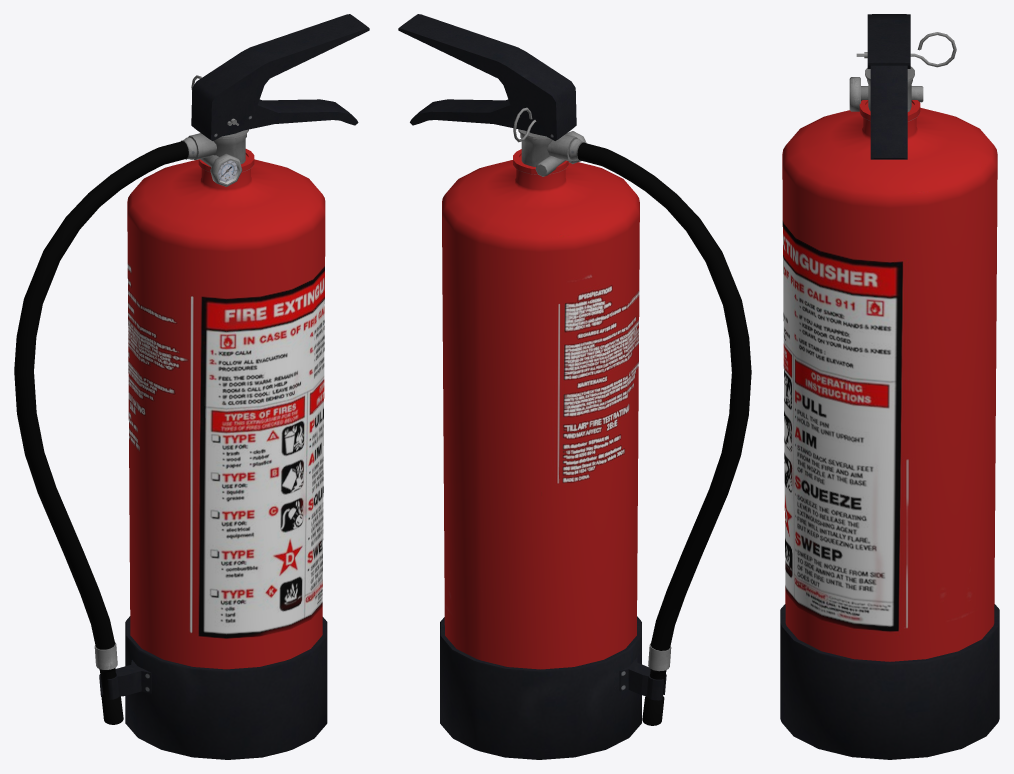
File: fire_extinguisher.glb
3 views of the same model, side by side, from view 1: azimuth 30°, elevation 25°; view 2: azimuth 150°, elevation 25°; view 3: azimuth 270°, elevation 25° (orthographic). The views are drawn at different scales.
Visible parts, largest first — view 1: Cylinder002; view 2: Cylinder002; view 3: Cylinder002.
Part boxes in pixels (<box>): Cylinder002: <box>14,14,369,759</box>; Cylinder002: <box>398,14,751,759</box>; Cylinder002: <box>780,14,999,759</box>.
Size of the model in its own units: 1.08 by 2 by 0.5509.
1 material, 1 textured.
